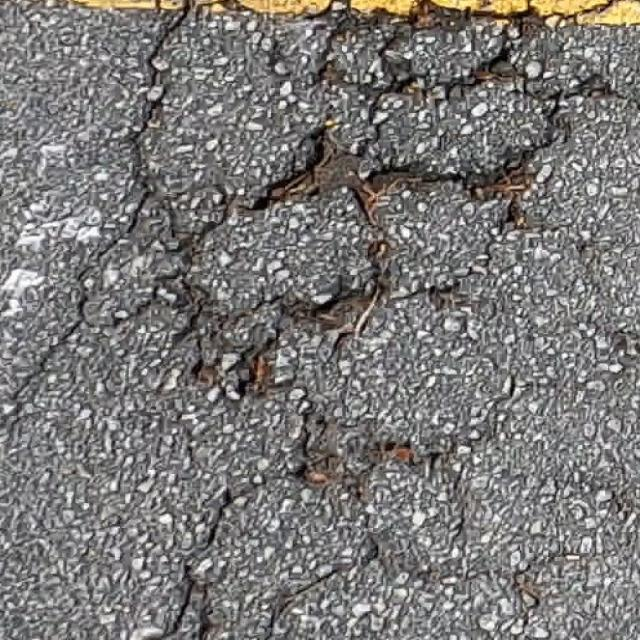GRIETA: (0, 324, 74, 455)
PIEL DE COCODRILO: (60, 0, 639, 639)
